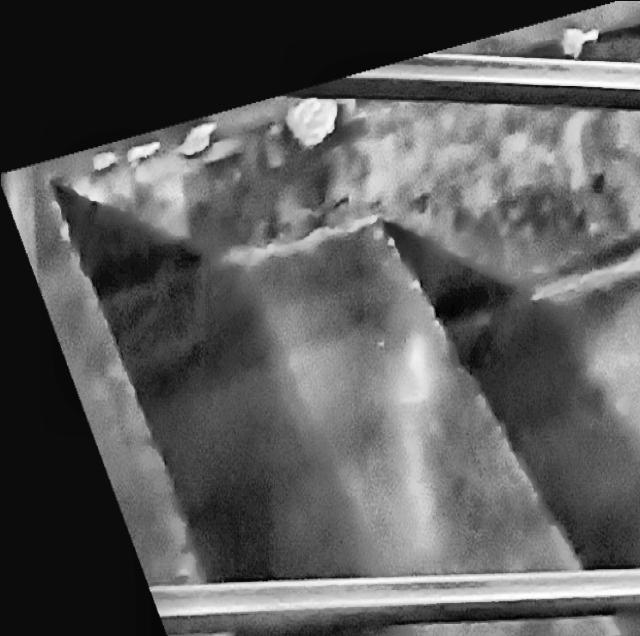stairs: (1, 1, 640, 636)
